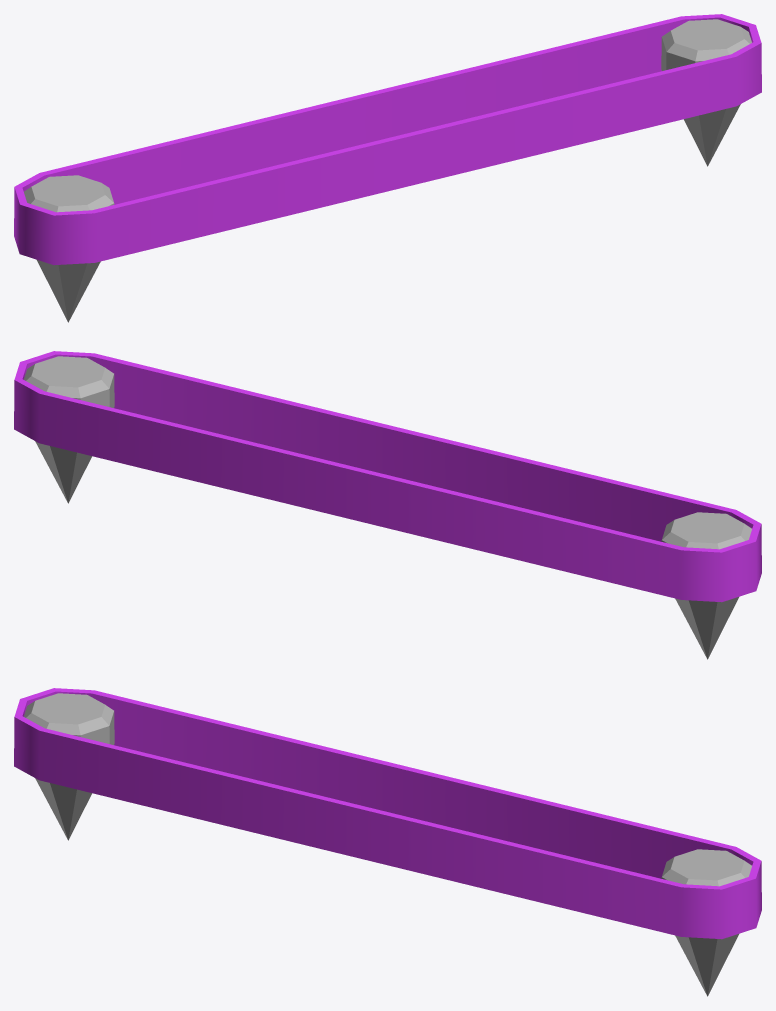
Rendered from Elastic Band Small Pink.fbx.
The picture shows the model from 3 angles, top to bottom: view 1: azimuth 30°, elevation 25°; view 2: azimuth 150°, elevation 25°; view 3: azimuth 330°, elevation 25°; orthographic projection.
Parts seen in each view (by area): view 1: Band.005, Pegs.005; view 2: Band.005, Pegs.005; view 3: Band.005, Pegs.005.
Boxes of the visible parts, x1,y1,x2,y2 form: Band.005: [14, 14, 761, 265]; Pegs.005: [24, 19, 751, 322]; Band.005: [14, 351, 761, 602]; Pegs.005: [24, 356, 751, 659]; Band.005: [14, 688, 761, 939]; Pegs.005: [24, 693, 751, 996].
Bounding box in the file's own units: 0.5559 × 0.0952 × 0.0727.
